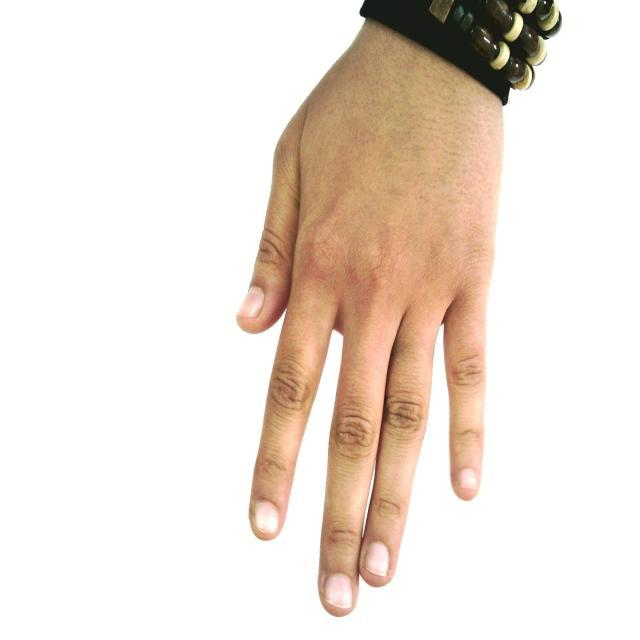Fingernail: (325, 575, 352, 608), (365, 541, 389, 576), (256, 501, 279, 535), (239, 288, 263, 317), (458, 470, 477, 491)
